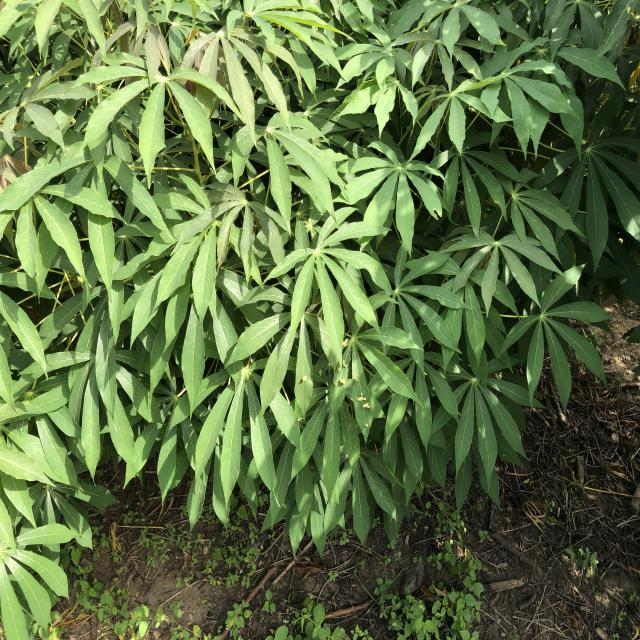Mosca: (328, 358, 351, 374), (355, 392, 372, 413), (332, 374, 349, 391), (296, 370, 311, 385), (361, 421, 371, 434)
